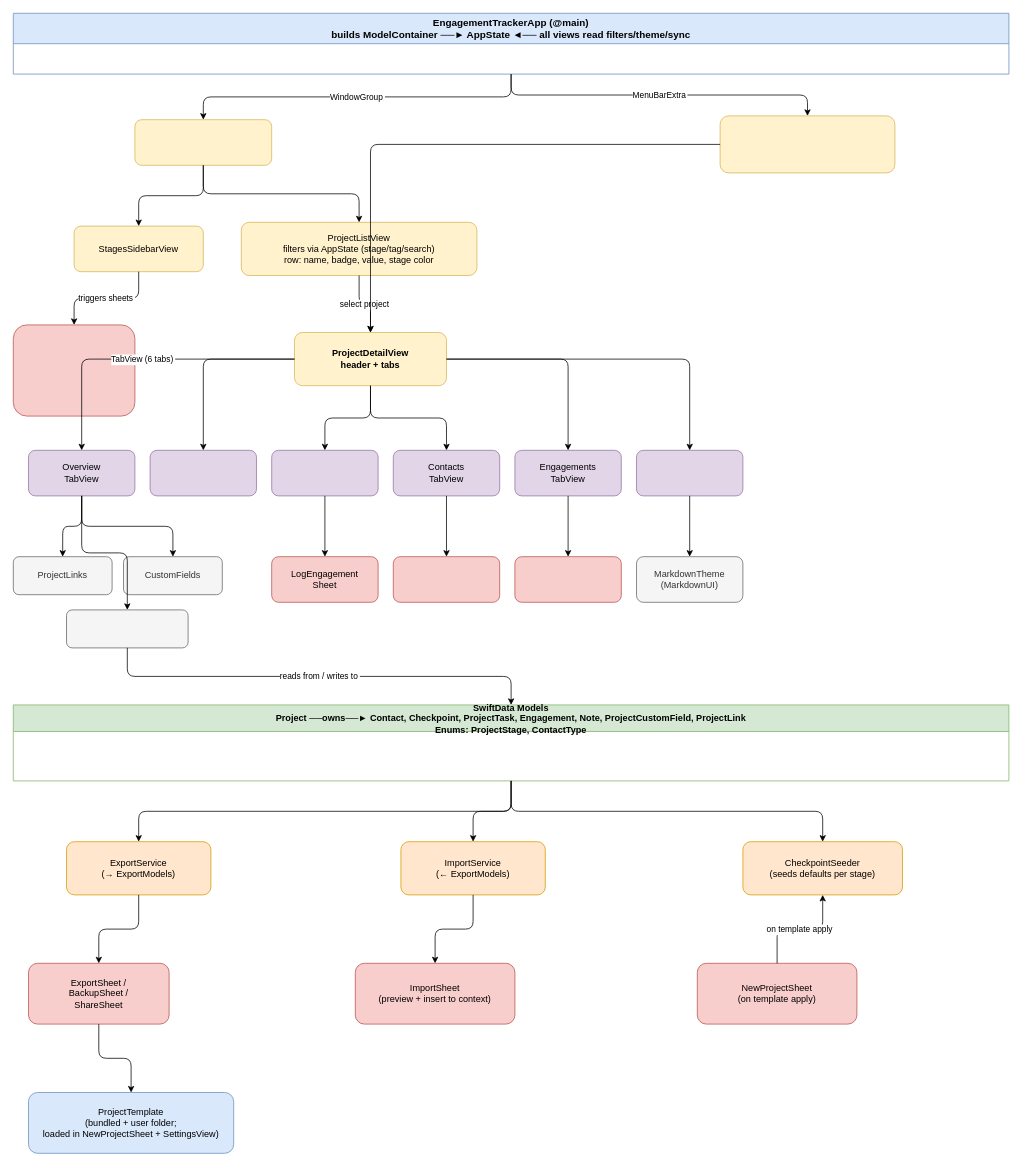
The diagram is 1022 pixels wide and 1167 high, and some of its shapes have lost their labels. Here are the shapes that lost their labels. From the top down, the centre of each, then its label:
point (203, 142): ContentView (3-pane split)
point (807, 144): MenuBarPopoverView + QuickCaptureView creates Engagement/Task/Note on Project
point (74, 370): ImportSheet ExportSheet BackupSheet NewProjectSheet SettingsView
point (202, 473): Checkpoints TabView
point (324, 473): Tasks TabView
point (689, 473): Notes TabView
point (446, 579): Add Contact Sheet
point (567, 579): LogEngage Sheet
point (127, 628): EngagementCalendar
